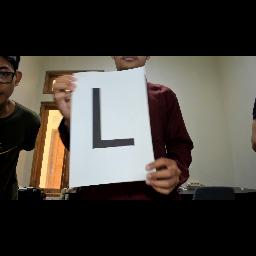l: (84, 83, 142, 157)
